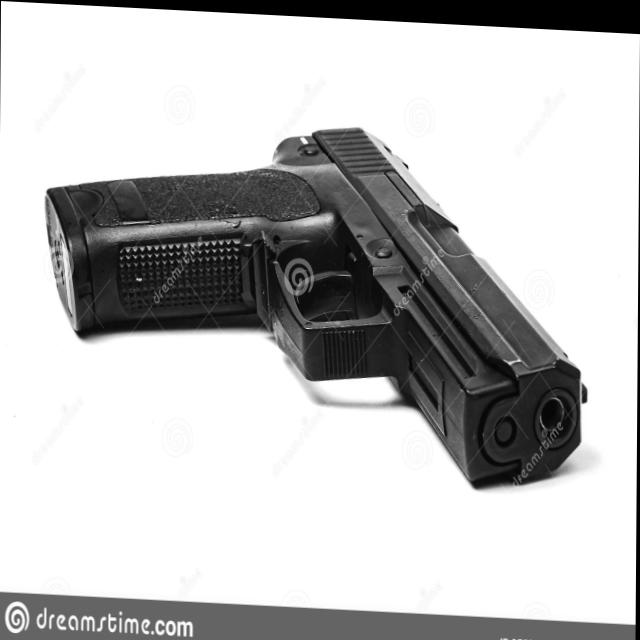handgun: (42, 106, 587, 489)
